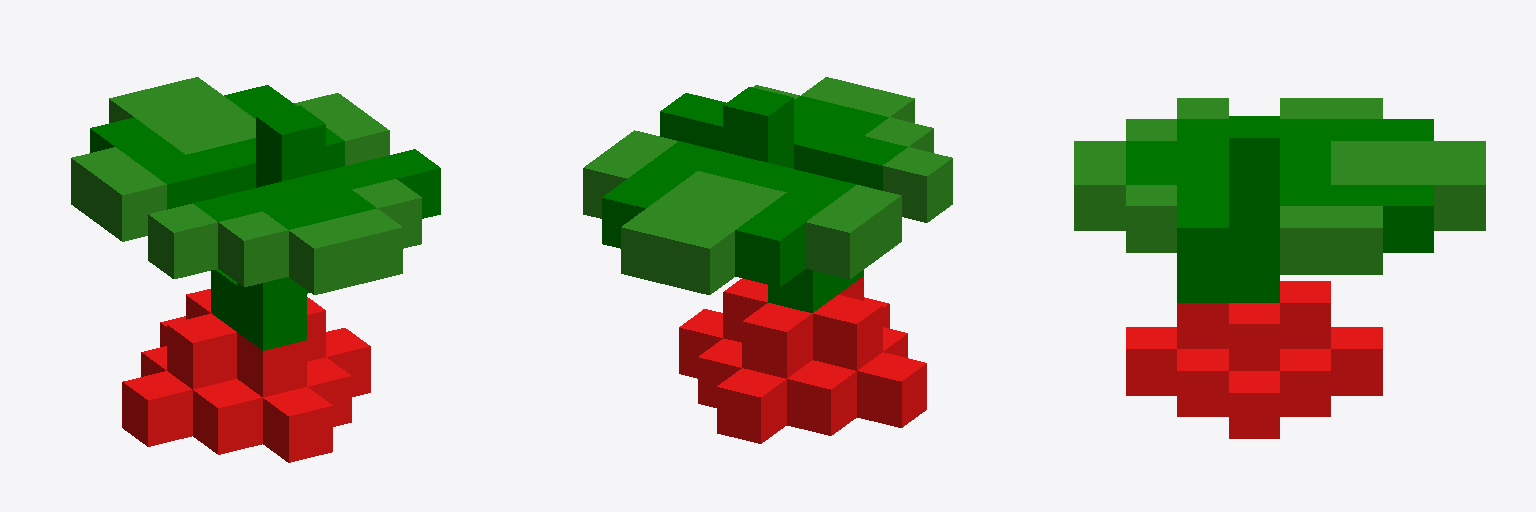
The picture shows the model from 3 angles: view 1: azimuth 30°, elevation 25°; view 2: azimuth 150°, elevation 25°; view 3: azimuth 270°, elevation 25°; orthographic projection.
Parts seen in each view (by area): view 1: object 1; view 2: object 1; view 3: object 1.
Part boxes in pixels (x1,y1,x2,y2): object 1: (71,77,440,462); object 1: (583,77,952,443); object 1: (1074,98,1485,438).
Bounding box in the file's own units: 0.6 × 0.6 × 0.8.
1 materials, 1 textured.